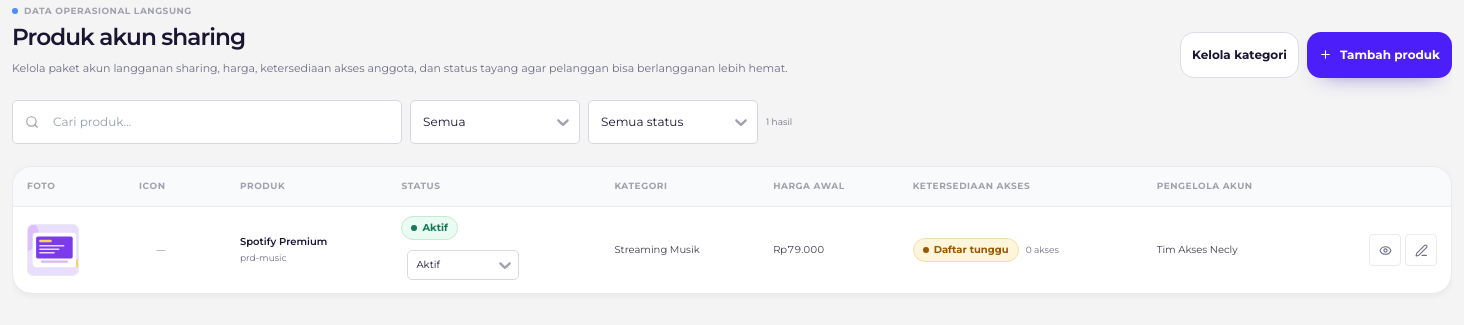
produk admin (W18) › memakai opsi master kategori pada filter produk
The width and height of the screenshot is (1464, 325).
Expected: the text "Spotify Premium" is shown, [240,235,327,248]
Focus the dropdown named "Filter kategori" at x=423, y=122, box [421,112,424,132]
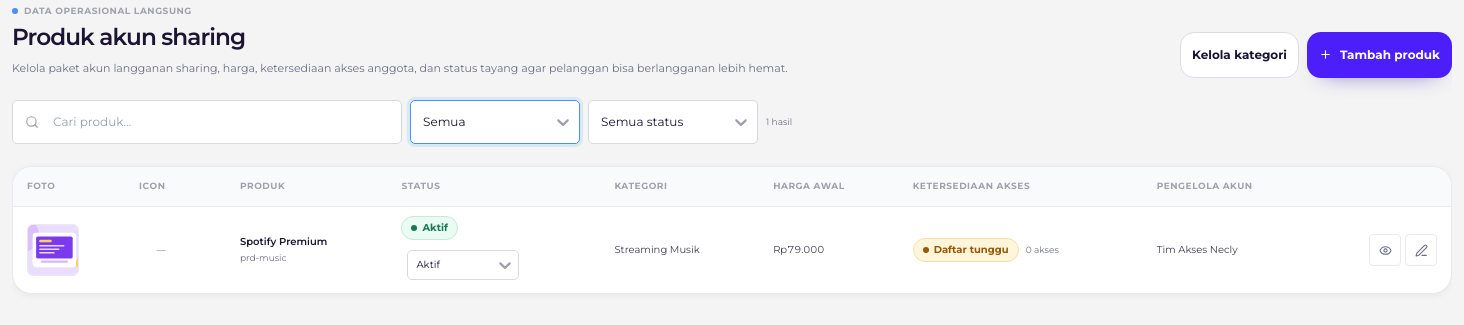
Press ArrowDown in the dropdown named "Filter kategori", box [421,112,424,132]
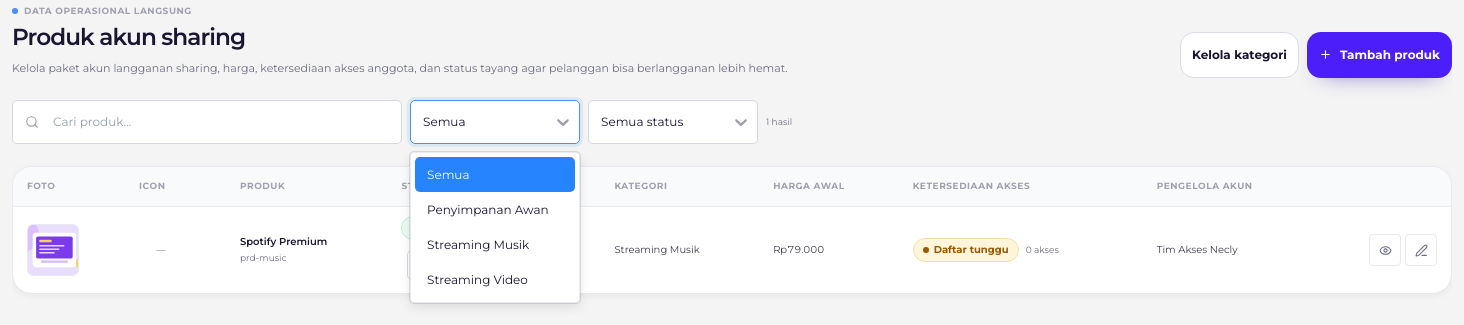
Click the option "Streaming Musik" at x=478, y=245, box [427,237,529,252]
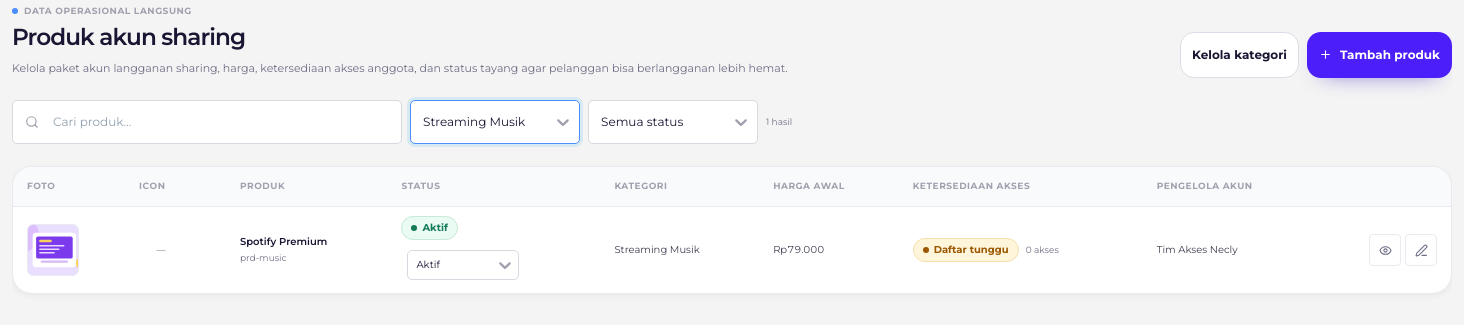
Expected: the text "Spotify Premium" is shown, [240,235,327,248]
Expected: the text "1 hasil" is shown, [766,115,792,129]
Press ArrowDown in the dropdown named "Filter kategori", box [421,112,424,132]
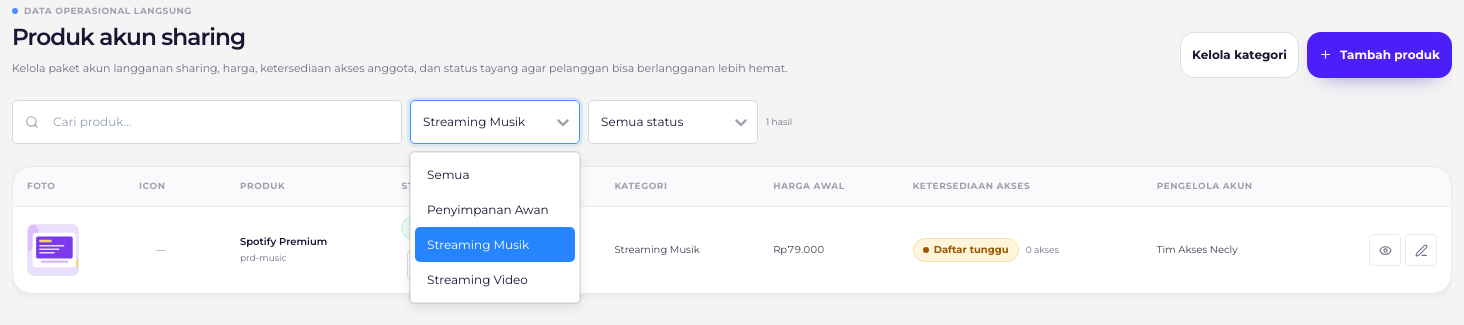
Click the option "Penyimpanan Awan" at x=488, y=210, box [427,202,549,217]
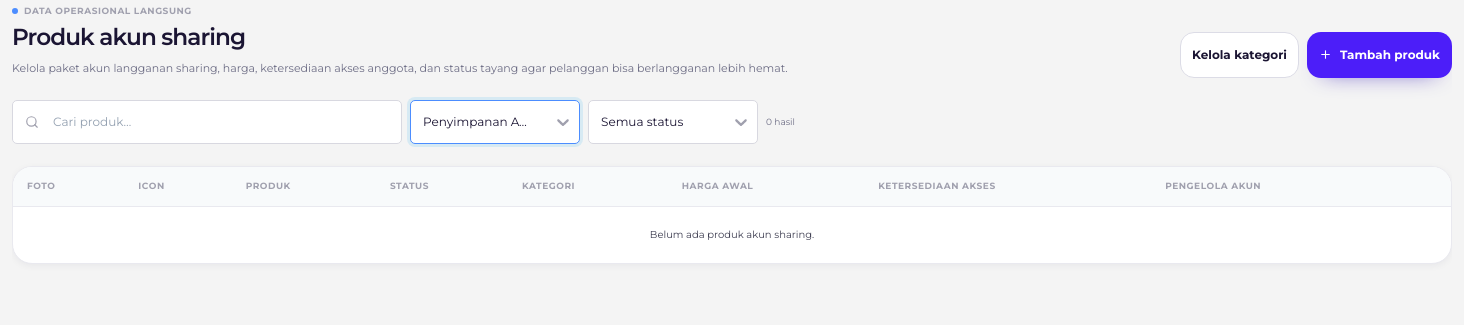
Result: the text "0 hasil" is shown at [766,115,795,129]
Result: the text "Spotify Premium" is gone
